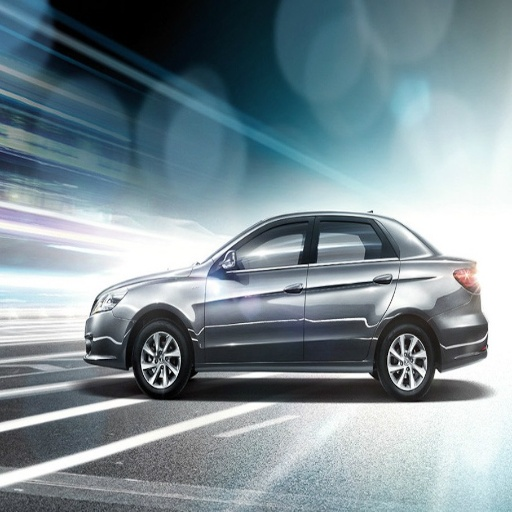back_left_door: (304, 214, 397, 360)
front_left_door: (201, 215, 314, 359)
